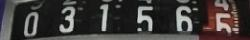digits: (96, 1, 117, 31), (58, 6, 76, 32), (136, 6, 153, 30), (176, 6, 192, 31), (23, 11, 38, 36), (214, 12, 232, 32)
